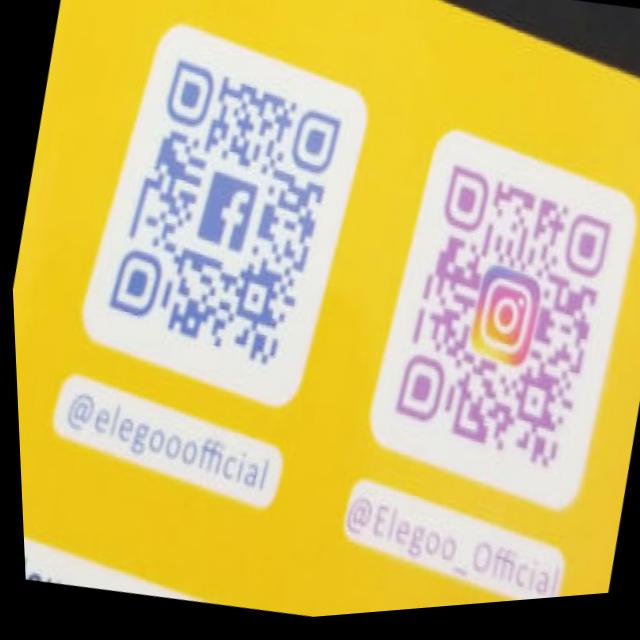QR_CODE: (64, 16, 373, 415), (349, 123, 640, 523)
